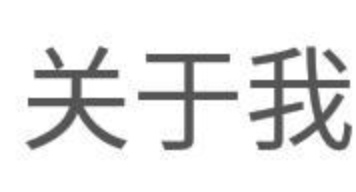TextView: (1, 1, 355, 191)
